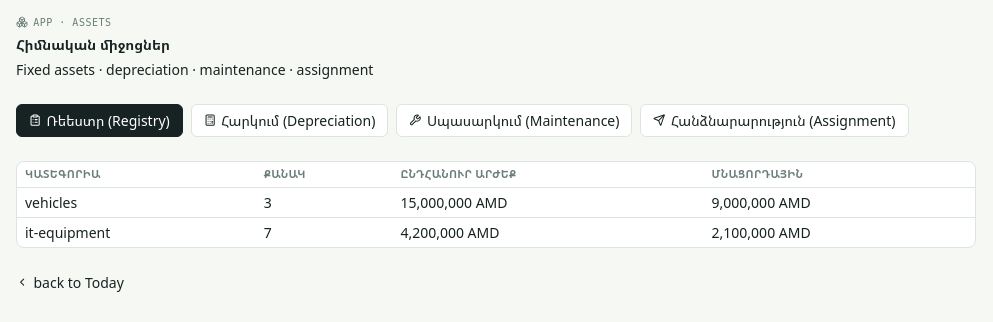
Test case: Assets — tab switching › clicking the assignment tab reveals the assets-assignment-panel panel
What coordinates should you click on to do the following:
click the tab with test id "assets-tab-assignment"
I would click on:
 (774, 120)
Its box is [640,104,908,137].
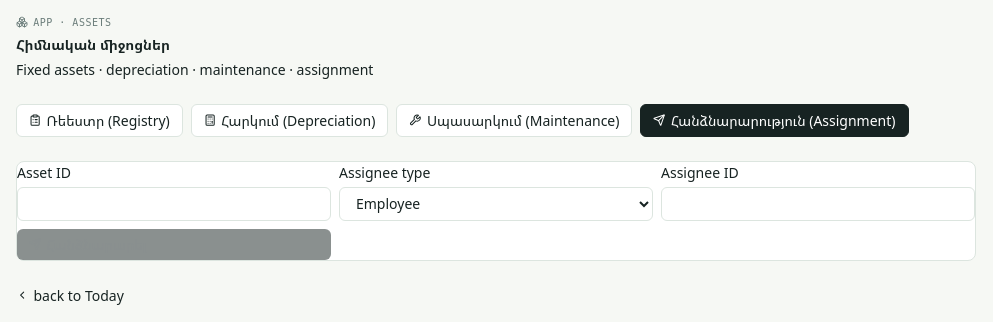
Expected: the element with test id "assets-assignment-panel" is shown, [16,161,976,261]
